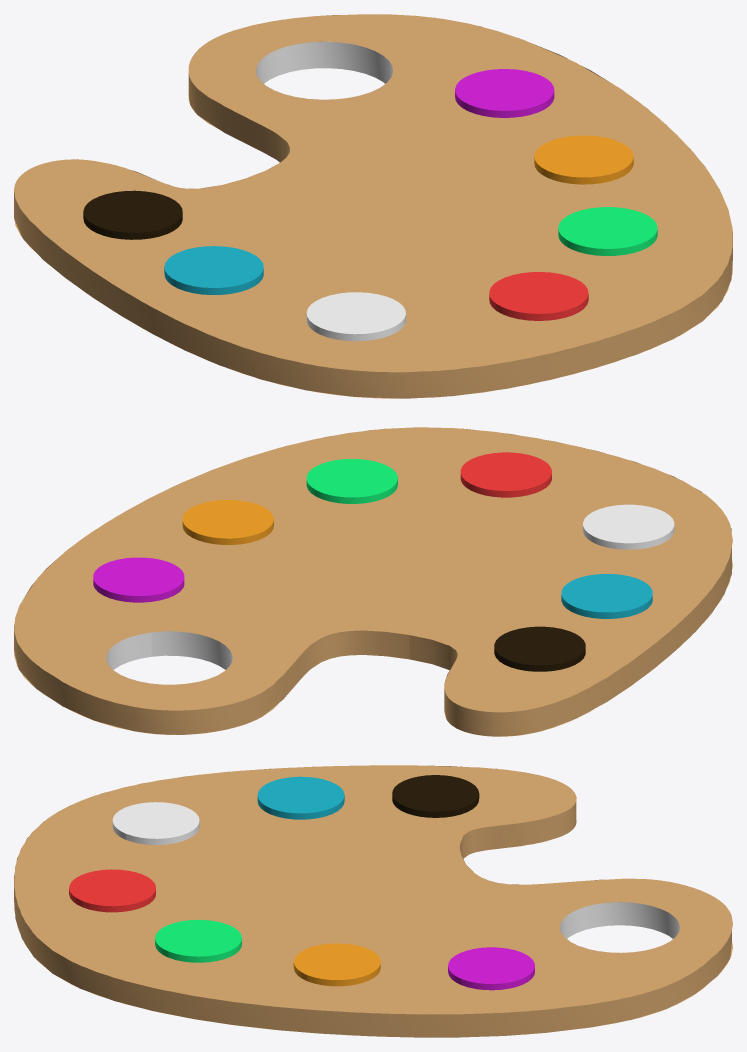
File: Palette.fbx
3 renders of one model, top to bottom at view 1: azimuth 30°, elevation 25°; view 2: azimuth 150°, elevation 25°; view 3: azimuth 270°, elevation 25°, orthographic. The views are drawn at different scales.
Parts seen in each view (by area): view 1: Obj_000001; view 2: Obj_000001; view 3: Obj_000001.
Part boxes in pixels (bbox=[...]): Obj_000001: bbox=[14, 14, 732, 398]; Obj_000001: bbox=[14, 427, 732, 736]; Obj_000001: bbox=[14, 765, 732, 1037].
Bounding box in the file's own units: 22.83 × 1.31 × 27.84.
